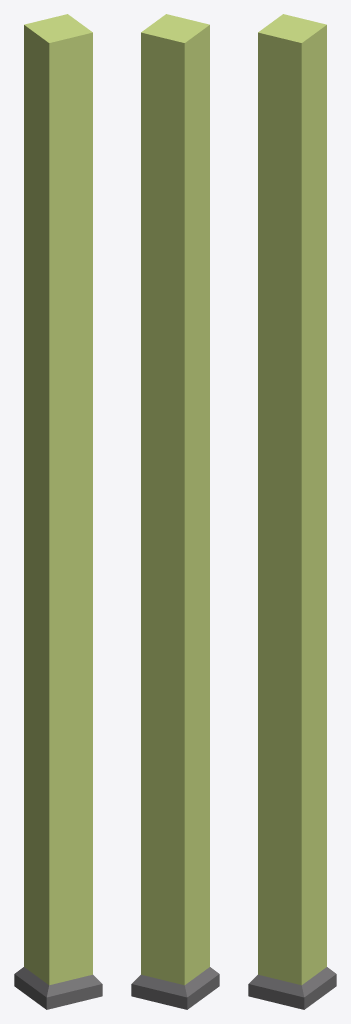
File: RayStageT2.fbx
3 views of the same model, side by side, from view 1: azimuth 30°, elevation 25°; view 2: azimuth 150°, elevation 25°; view 3: azimuth 330°, elevation 25° (orthographic).
Visible parts, largest first — view 1: 立方体; view 2: 立方体; view 3: 立方体.
Part boxes in pixels (x1,y1,x2,y2): 立方体: (14,14,102,1009); 立方体: (131,14,219,1009); 立方体: (248,14,336,1009).
Size of the model in its own units: 1.28 by 21 by 1.28.
